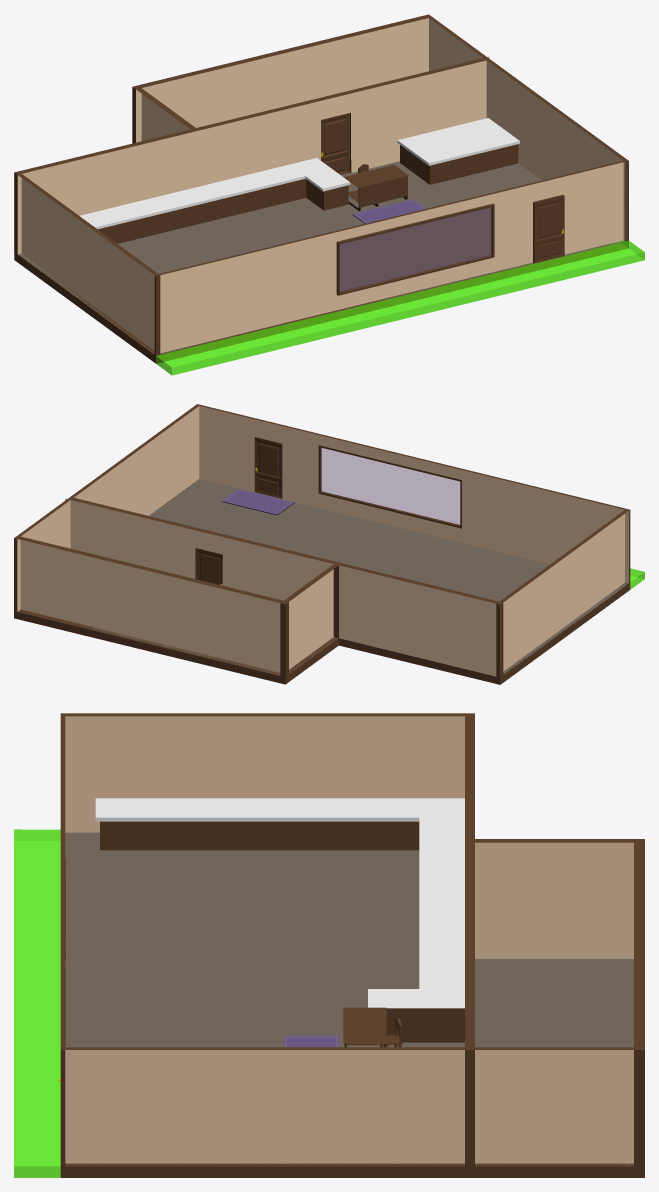
File: Shop.glb
3 views of the same model, one above another, from view 1: azimuth 30°, elevation 25°; view 2: azimuth 150°, elevation 25°; view 3: azimuth 270°, elevation 25° (orthographic). The views are drawn at different scales.
Visible parts, largest first — view 1: Floor, ATFCounter, Window, Door.001, Counter, Door, Rug.001; view 2: Floor, Window, Door.001, Rug.002, Door; view 3: Floor, ATFCounter, Counter, Rug.001.
Boxes of the visible parts, x1,y1,x2,y2 form: Floor: [14, 14, 644, 375]; ATFCounter: [79, 118, 519, 243]; Window: [336, 203, 494, 295]; Door.001: [533, 194, 564, 263]; Counter: [344, 165, 408, 210]; Door: [321, 113, 349, 174]; Rug.001: [352, 199, 426, 223]; Floor: [14, 404, 644, 684]; Window: [318, 445, 461, 528]; Door.001: [254, 437, 282, 498]; Rug.002: [221, 488, 294, 515]; Door: [196, 548, 222, 585]; Floor: [14, 713, 644, 1177]; ATFCounter: [95, 798, 464, 1042]; Counter: [343, 1007, 386, 1047]; Rug.001: [284, 1035, 338, 1047].
Bounding box in the file's own units: 18.83 × 3.32 × 14.83.
9 materials, 1 textured.
